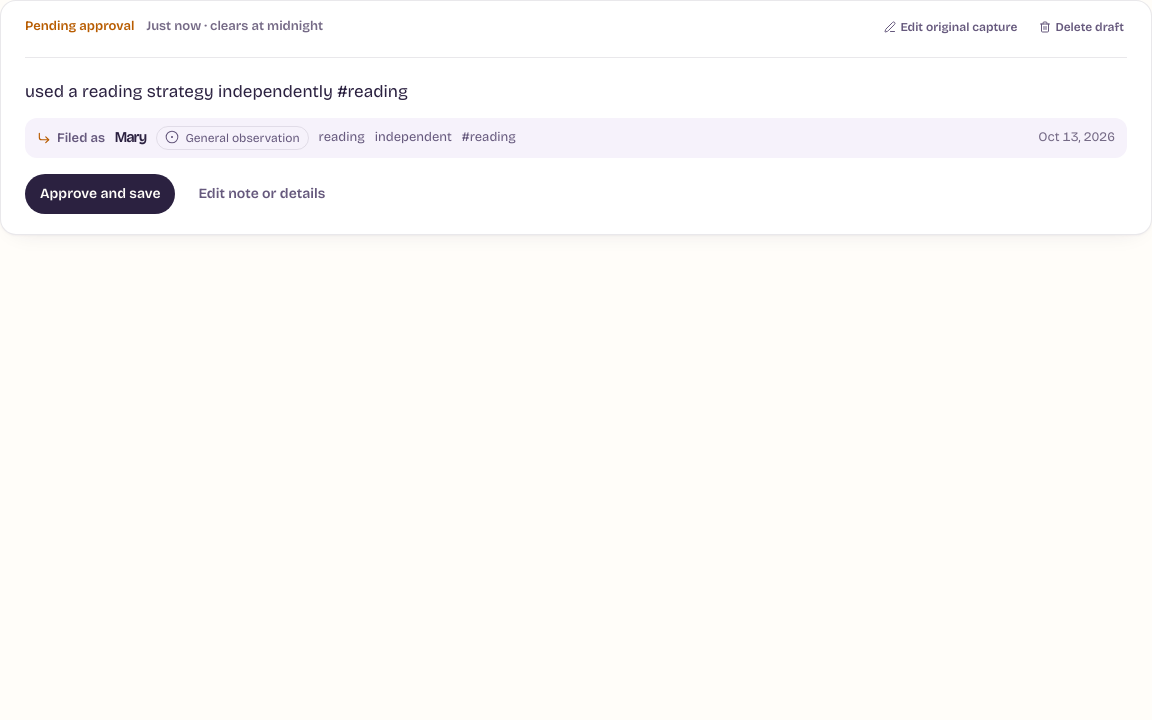
Test: EvidenceCaptureCard review flow › shows compact approval, then preserves edits when details collapse
Click the button "Edit note or details": (262, 194) left=184, top=174, right=340, bottom=214
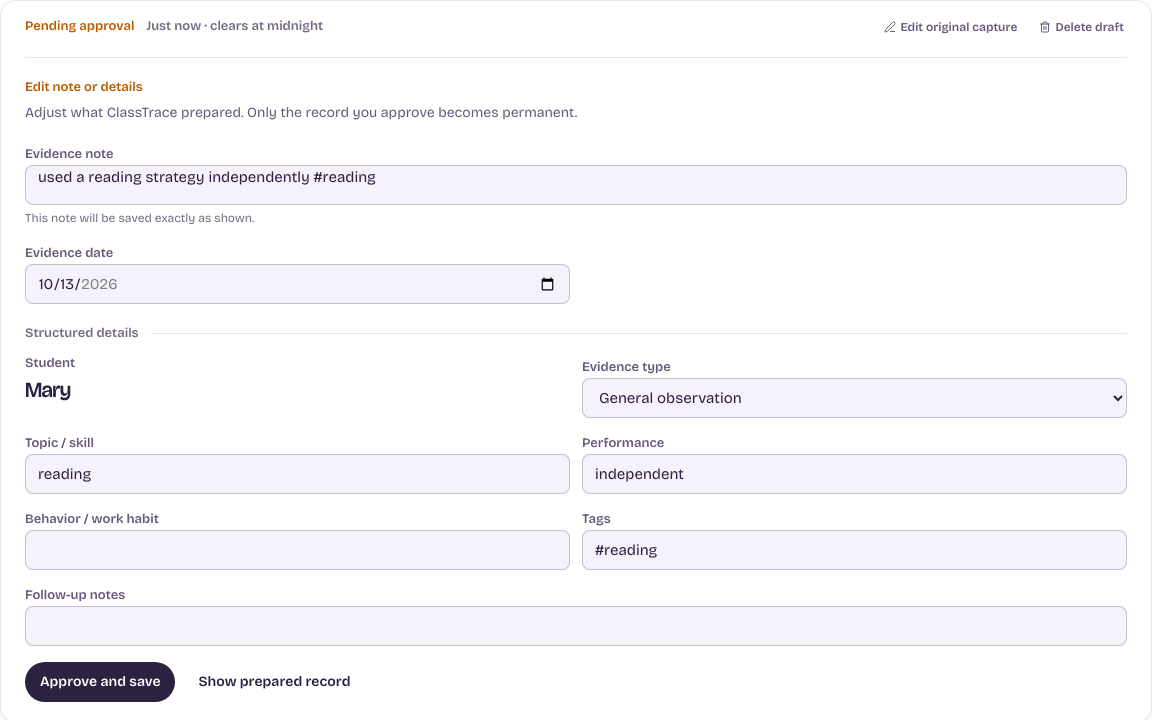
Expected: the button "Edit original capture" is shown, left=873, top=13, right=1028, bottom=41
Expected: the text box labelled "Evidence note" is enabled
Replace the text in the text box labelled "Evidence note" with "Mary used the strategy without prompting.": (576, 185) left=25, top=165, right=1127, bottom=205
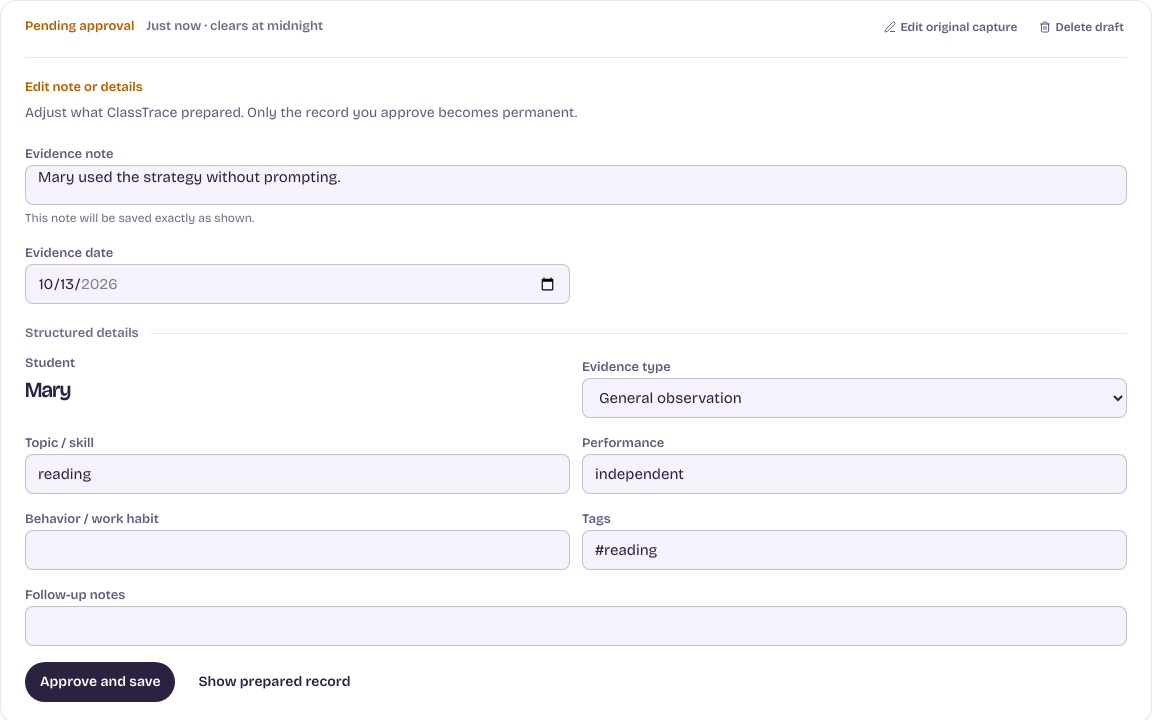
Click the button "Show prepared record": (274, 682) left=184, top=662, right=366, bottom=702
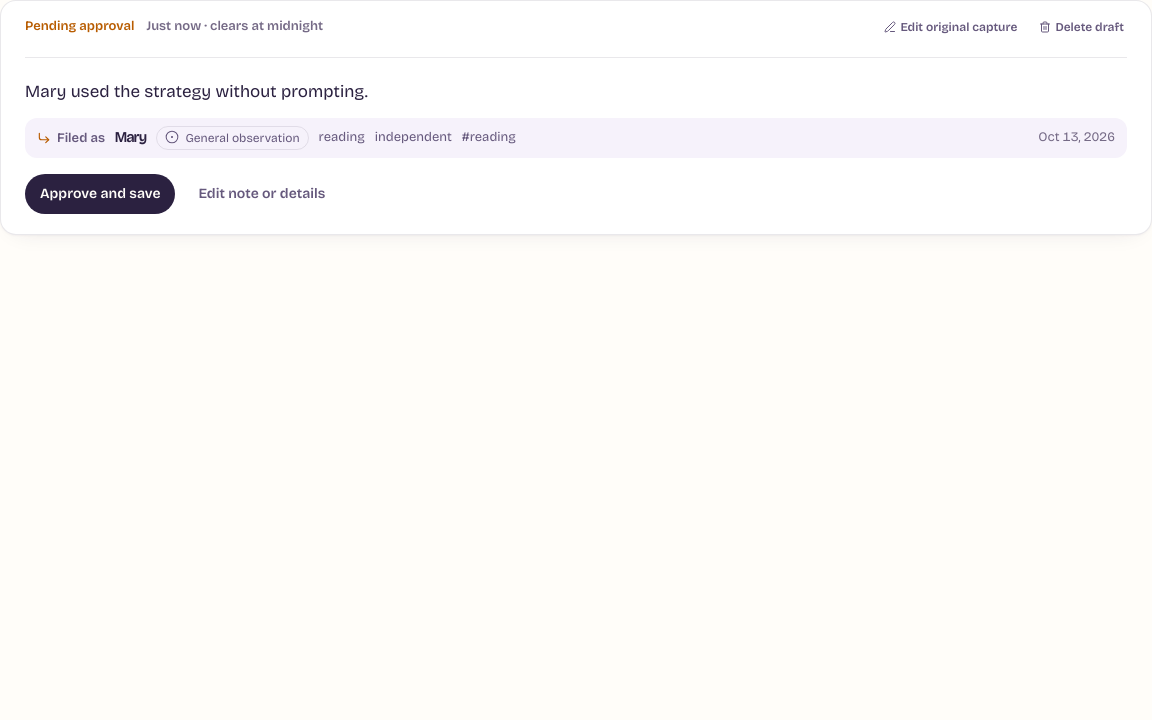
Click the button "Edit note or details": (262, 194) left=184, top=174, right=340, bottom=214
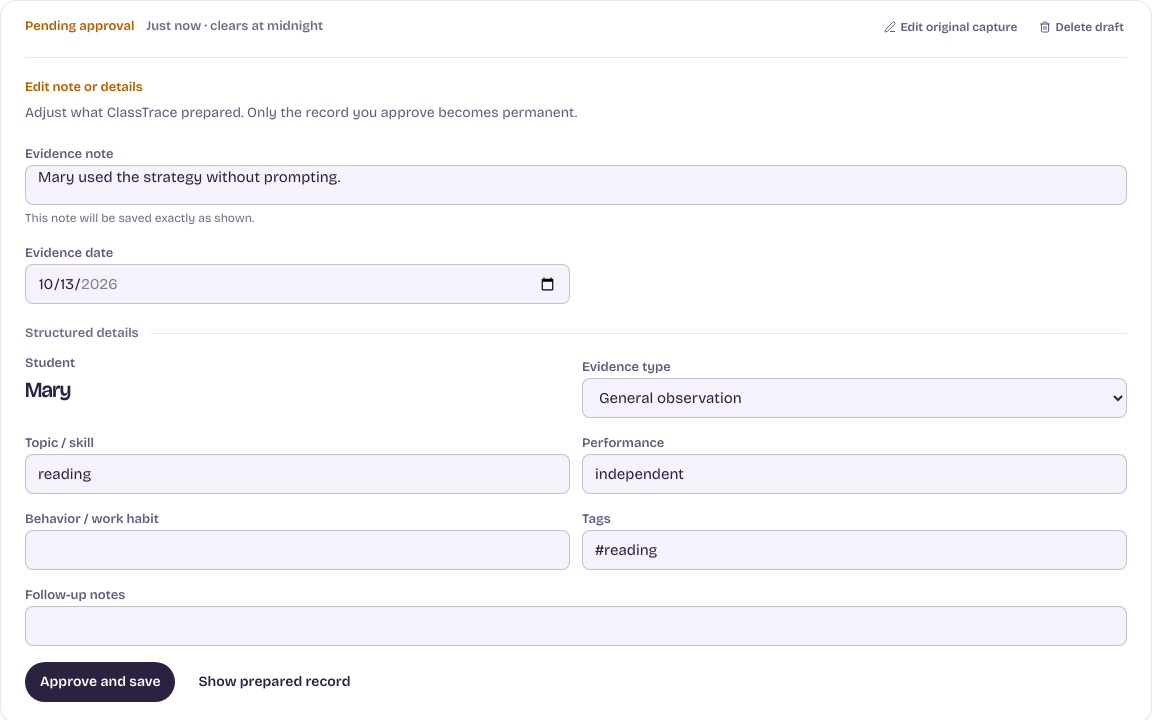
Expected: the text box labelled "Evidence note" holds "Mary used the strategy without prompting.", left=25, top=165, right=1127, bottom=205
